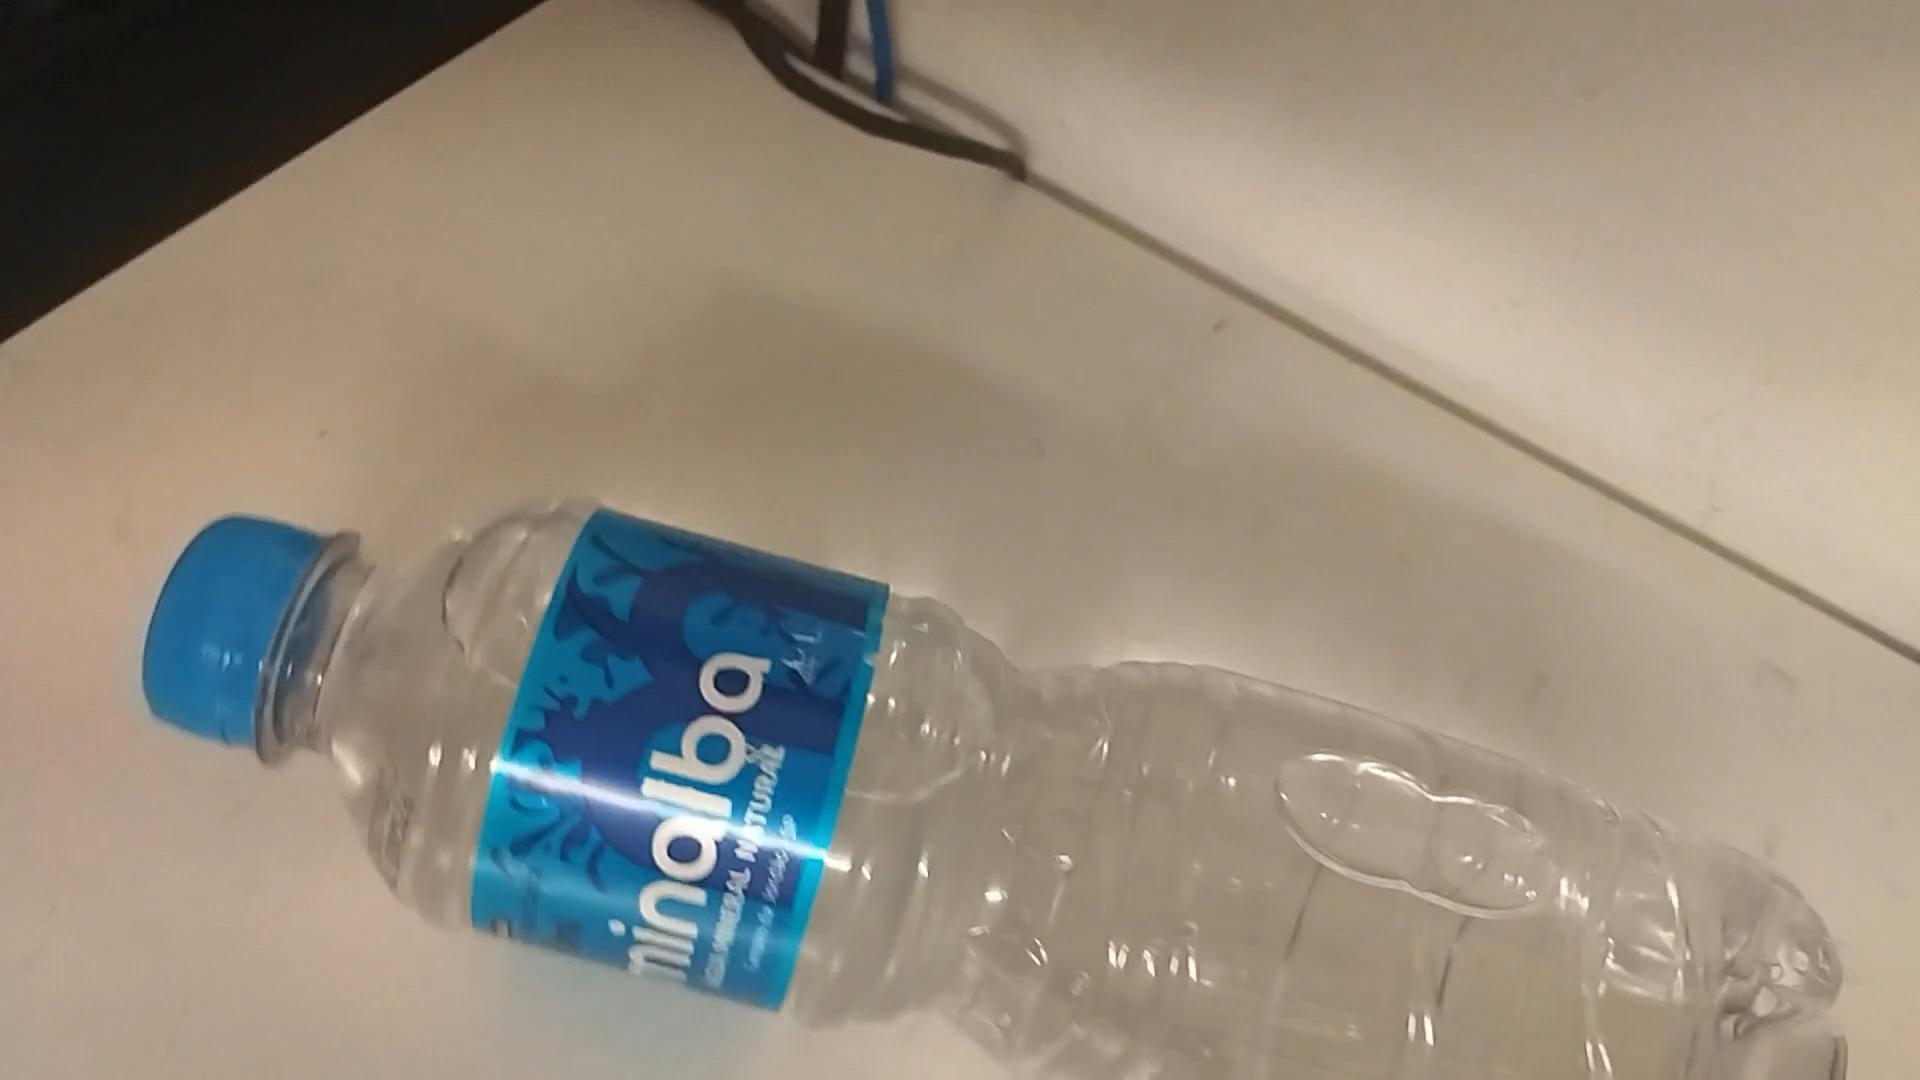agua: (162, 500, 1824, 1072)
